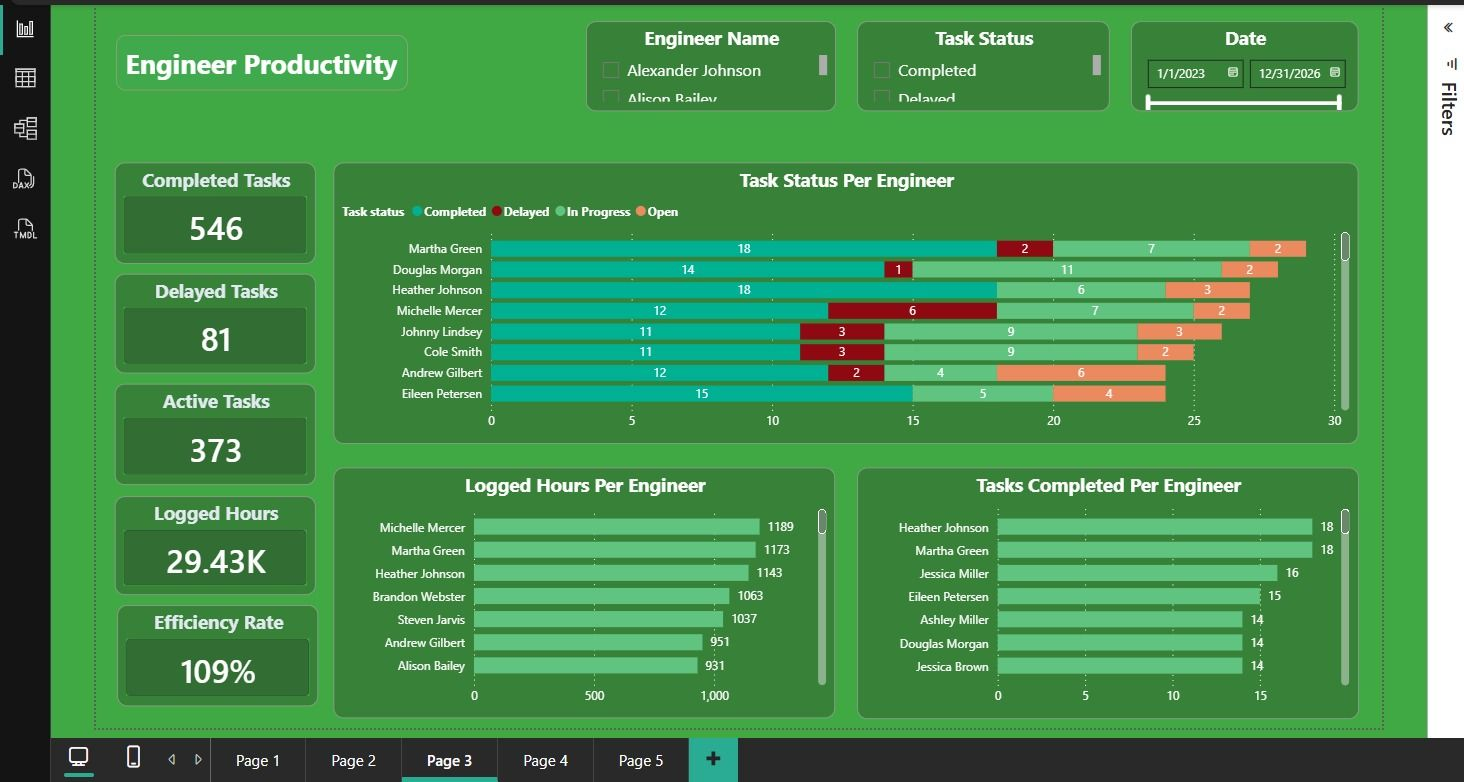

The page's visual inventory and layout, read from the dashboard file:
{"tool":"powerbi","page":{"name":"Page 3","canvas":[1280,720],"ordinal":2},"visuals":[{"type":"cardVisual","title":"Efficiency Rate","fields":{"Data":["Engineers.Efficiency Ratio"]},"box":[21.1,597,200.3,100.8],"z":1000},{"type":"cardVisual","title":"Active Tasks","fields":{"Data":["Tasks.Active Tasks"]},"box":[18.7,377.5,200.3,100.8],"z":2000},{"type":"cardVisual","title":"Logged Hours","fields":{"Data":["Measure Table.Total Logged Hours"]},"box":[18.7,488.5,200.3,98.3],"z":3000},{"type":"shape","box":[20,30,290,55],"z":4000},{"type":"slicer","title":"Engineer Name","fields":{"Values":["Engineers.full_name"]},"box":[487.6,16.2,248.8,89.6],"z":5000},{"type":"slicer","title":"Task Status","fields":{"Values":["Tasks.task_status"]},"box":[757.6,16.2,251.3,89.6],"z":6000},{"type":"slicer","title":"Date ","fields":{"Values":["Dim_Date.Date"]},"box":[1030,16.2,226.4,89.6],"z":7000},{"type":"clusteredBarChart","title":"Tasks Completed Per Engineer","fields":{"Category":["Engineers.full_name"],"Y":["Tasks.Completed Tasks"]},"box":[757.6,460.3,498.8,250],"z":8000},{"type":"clusteredBarChart","title":"Logged Hours Per Engineer","fields":{"Category":["Engineers.full_name"],"Y":["Time_Logs.Total Logged Hours"]},"box":[236,460,499.5,249.7],"z":9000},{"type":"barChart","title":"Task Status Per Engineer","fields":{"Category":["Engineers.full_name"],"Series":["Tasks.task_status"],"Y":["CountNonNull(Tasks.task_id)"]},"box":[236.4,156.7,1020,279.9],"z":10000},{"type":"cardVisual","title":"Completed Tasks","fields":{"Data":["Tasks.Completed Tasks"]},"box":[18.7,156.7,200.3,100.8],"z":11000},{"type":"cardVisual","title":"Delayed Tasks","fields":{"Data":["Tasks.Delayed Tasks"]},"box":[18.7,267.7,200.3,99.5],"z":12000}]}

Visuals, with their boxes on the page's 1280x720 design canvas (x1, y1, x2, y2). These are canvas units, not pixel positions in the 1464x782 screenshot, which may show the page scaled, cropped or inside an application window:
"Efficiency Rate" cardVisual: <box>21,597,221,698</box>
"Active Tasks" cardVisual: <box>19,378,219,478</box>
"Logged Hours" cardVisual: <box>19,488,219,587</box>
shape: <box>20,30,310,85</box>
"Engineer Name" slicer: <box>488,16,736,106</box>
"Task Status" slicer: <box>758,16,1009,106</box>
"Date " slicer: <box>1030,16,1256,106</box>
"Tasks Completed Per Engineer" clusteredBarChart: <box>758,460,1256,710</box>
"Logged Hours Per Engineer" clusteredBarChart: <box>236,460,736,710</box>
"Task Status Per Engineer" barChart: <box>236,157,1256,437</box>
"Completed Tasks" cardVisual: <box>19,157,219,258</box>
"Delayed Tasks" cardVisual: <box>19,268,219,367</box>
